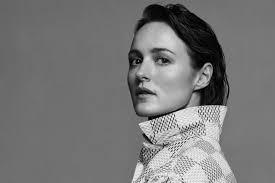Persons: (116, 0, 227, 120)
